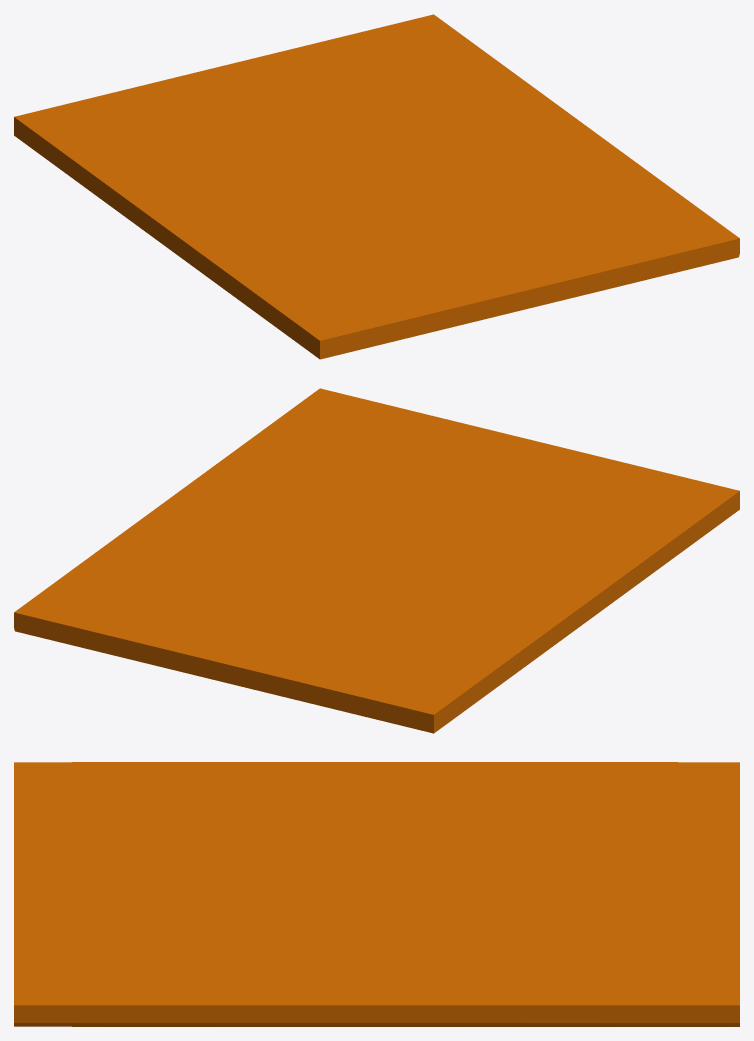
The picture shows the model from 3 angles, top to bottom: view 1: azimuth 30°, elevation 25°; view 2: azimuth 150°, elevation 25°; view 3: azimuth 270°, elevation 25°; orthographic projection. The views are drawn at different scales.
Bounding box in the file's own units: 5.47 × 0.233 × 6.91.
